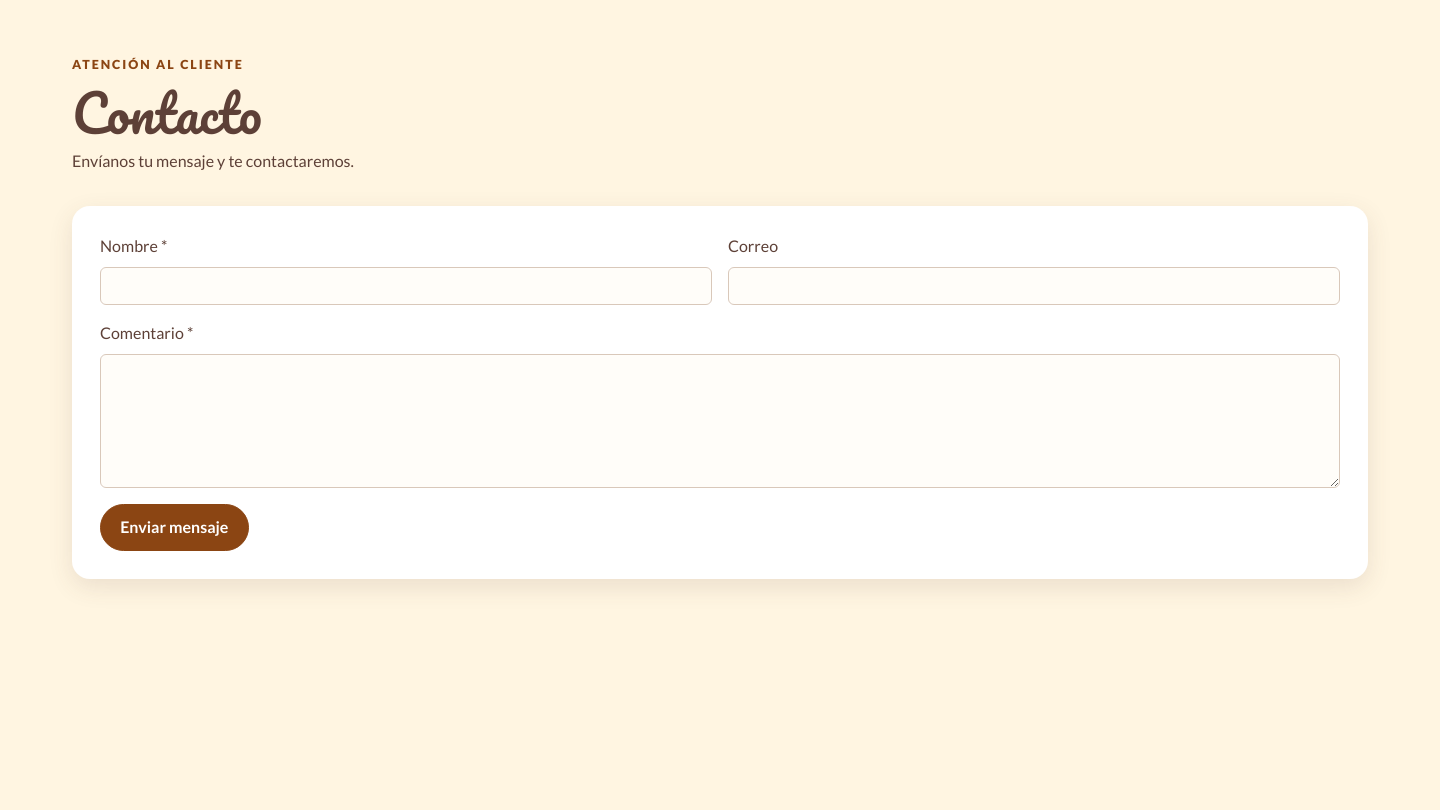
Test: Formulario de Contacto › confirma el envío con datos válidos
In the field labelled "Nombre *": {"x": 406, "y": 286} [100,267,712,305], type "María"
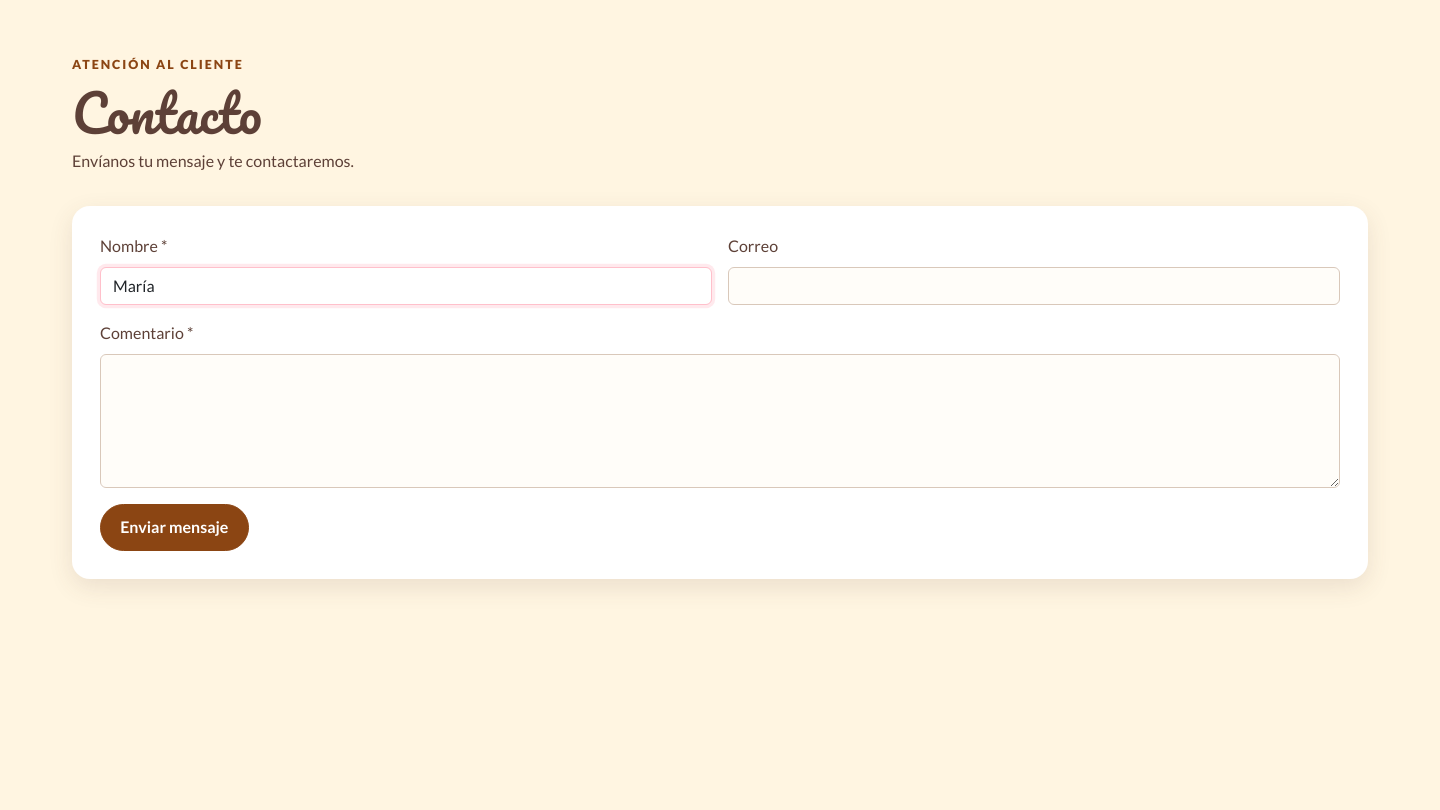
In the field labelled "Correo": {"x": 1034, "y": 286} [728,267,1340,305], type "alumna@duoc.cl"
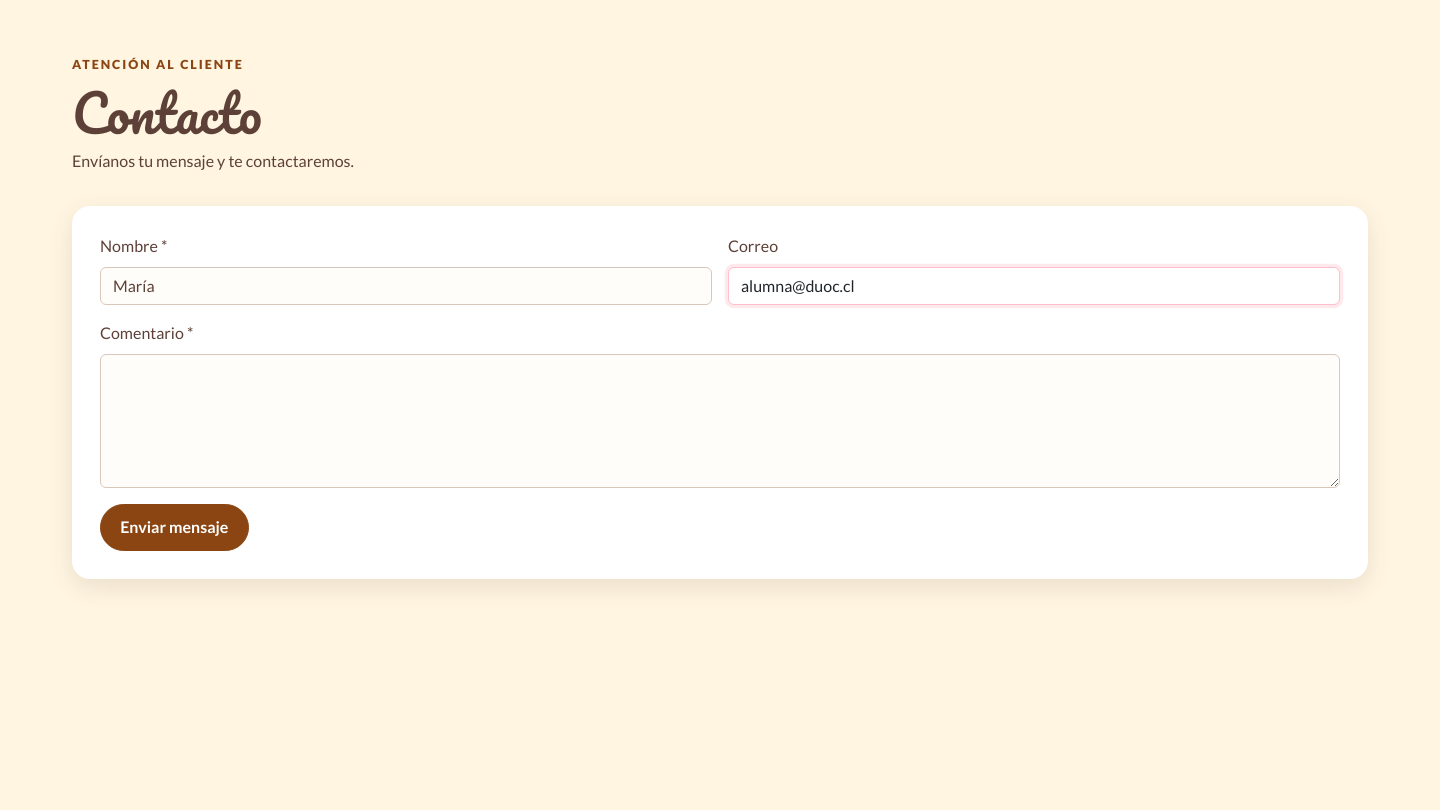
In the text box labelled "Comentario *": {"x": 720, "y": 421} [100,354,1340,488], type "Quiero cotizar una torta."
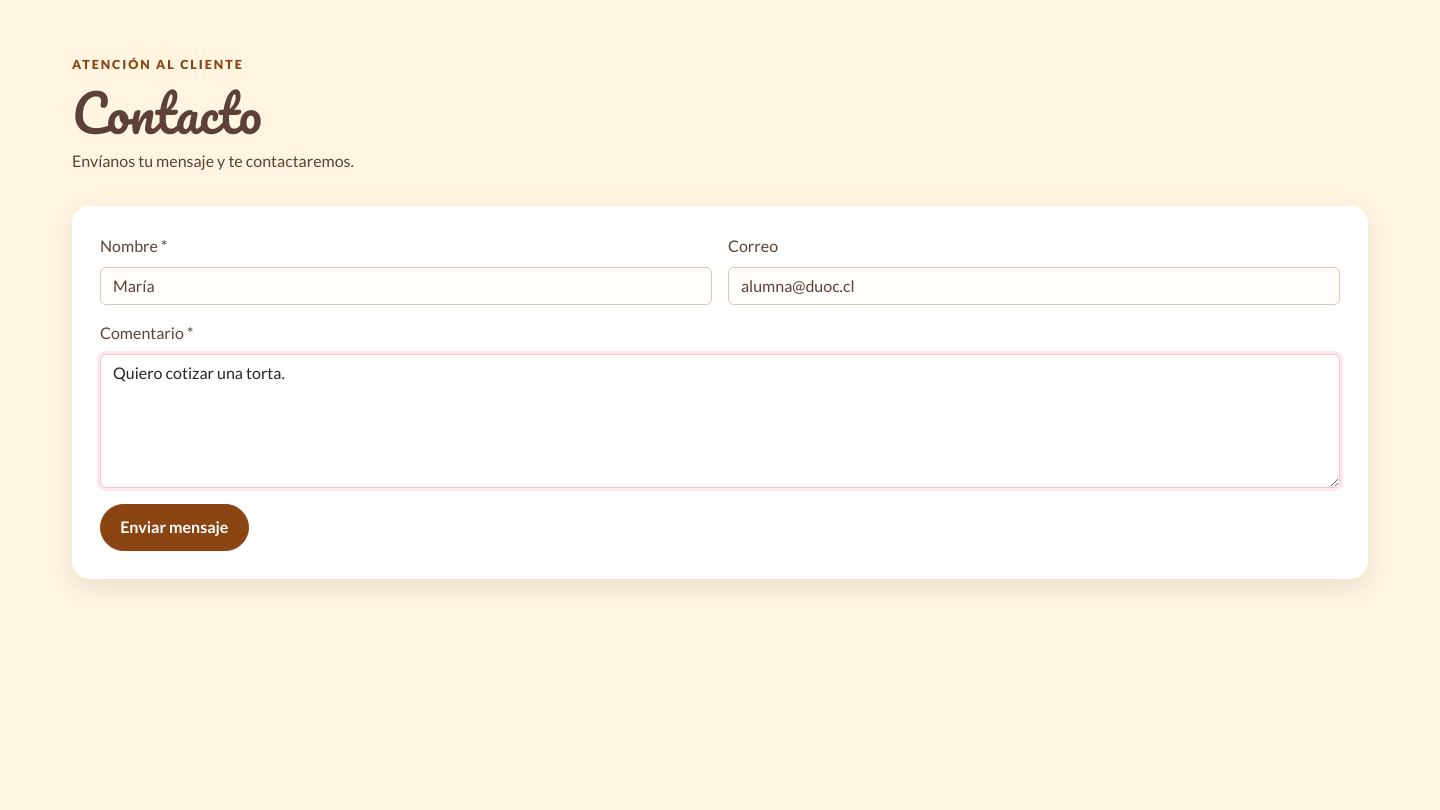
Click the button "Enviar mensaje": {"x": 174, "y": 527} [100,504,249,551]
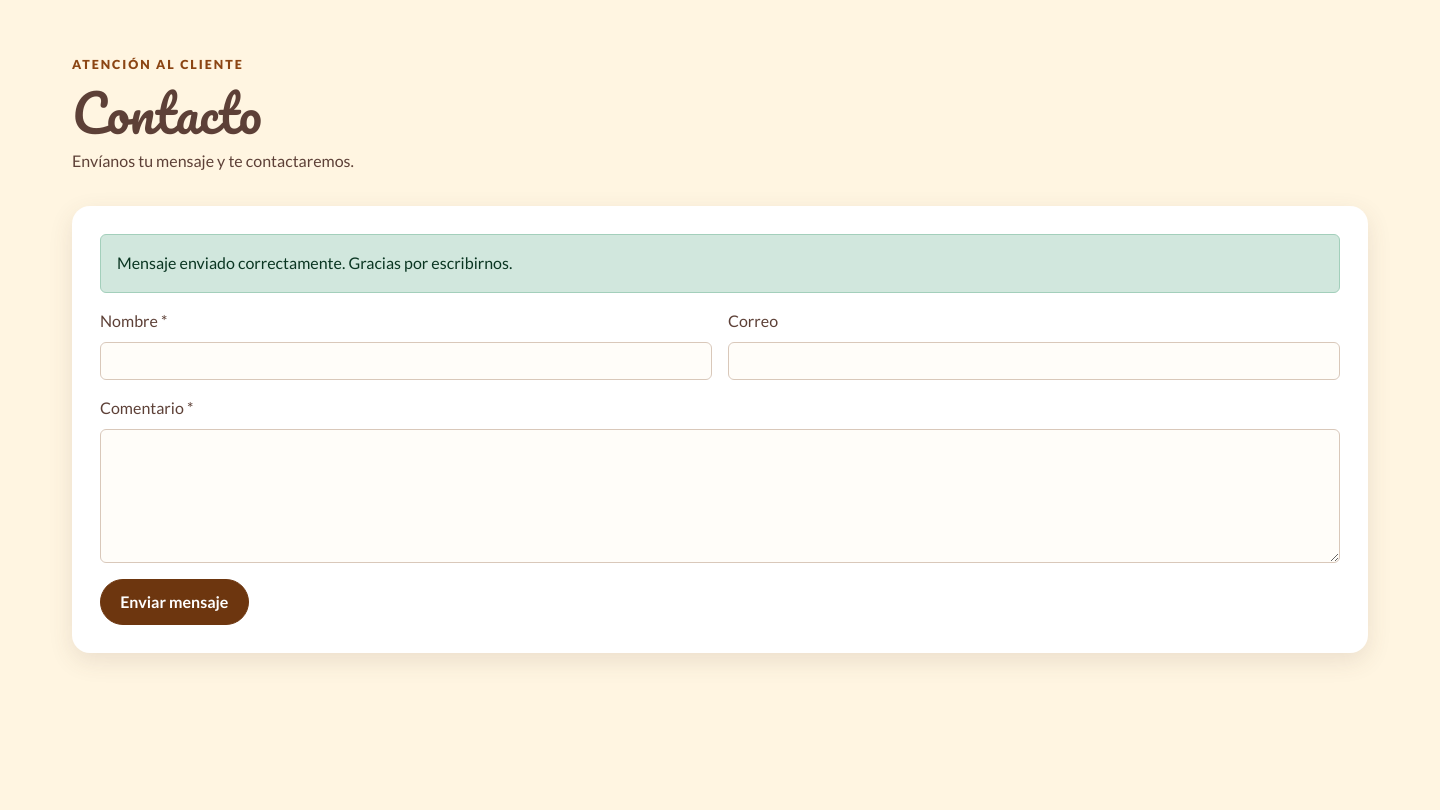
Expected: the text "Mensaje enviado correctamente. Gracias por escribirnos." is shown, [100,234,1340,293]
